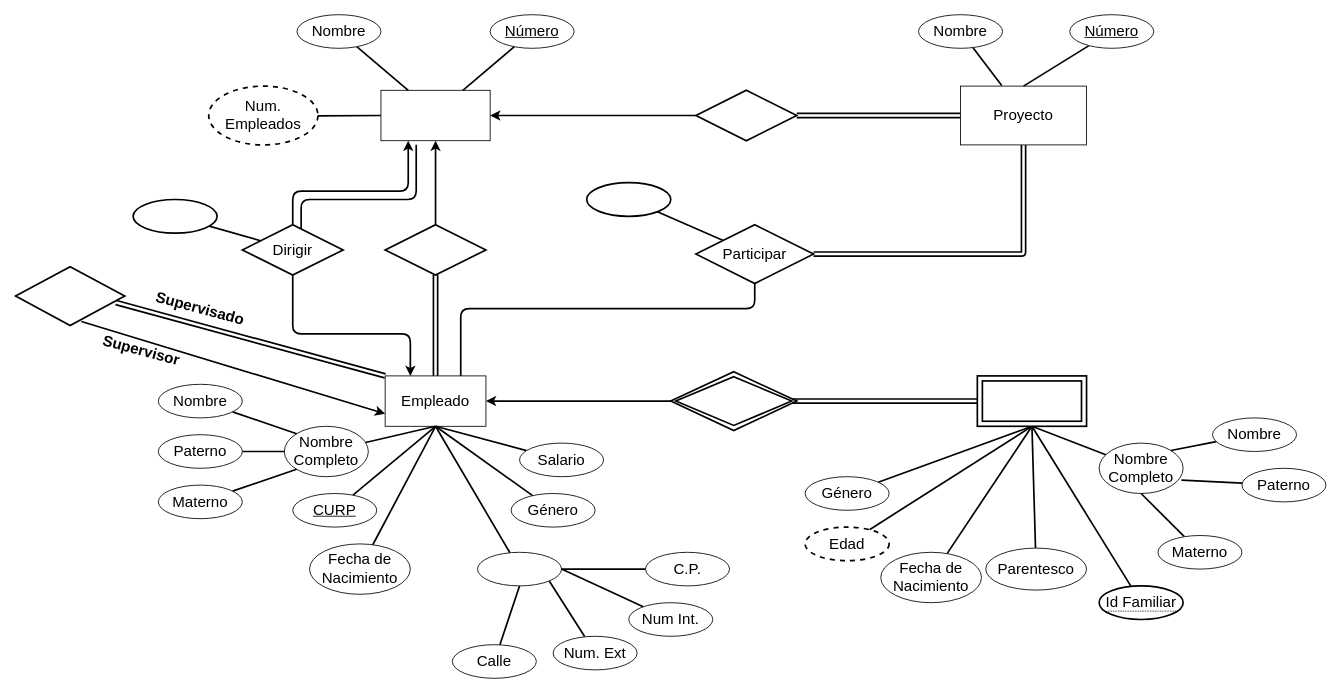
This 1341x693 diagram has some shape labels left out. The shapes that lost their labels are listed below. From the top down, each one's box as (x1, y1, x2, y2) in pixels, then its label:
(380, 89, 490, 141): Departamento
(695, 89, 797, 141): Controlar
(132, 198, 218, 234): Fecha
(585, 181, 671, 217): Horas
(384, 223, 486, 276): Asignar
(14, 265, 125, 326): Supervisar
(669, 370, 797, 431): Tener
(976, 375, 1087, 427): Familiar
(477, 551, 562, 586): Dirección
